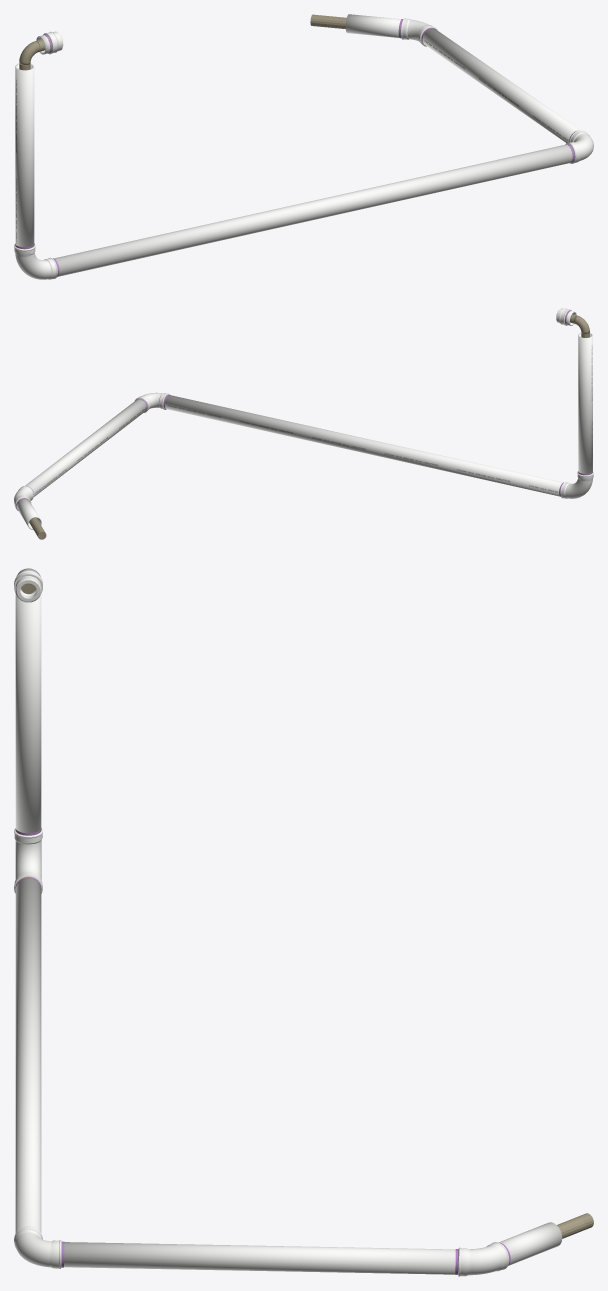
Rendered from slab_pipes_dwv__sewer__f63ea71a.glb.
The picture shows the model from 3 angles, top to bottom: view 1: azimuth 30°, elevation 25°; view 2: azimuth 150°, elevation 25°; view 3: azimuth 270°, elevation 25°; orthographic projection. The views are drawn at different scales.
Visible parts, largest first — view 1: pipe_dwv_kitchen, flow_waste_pipe_dwv_kitchen; view 2: pipe_dwv_kitchen, flow_waste_pipe_dwv_kitchen; view 3: pipe_dwv_kitchen.
Part boxes in pixels (x1=…): pipe_dwv_kitchen: x1=14, y1=14, x2=593, y2=279; flow_waste_pipe_dwv_kitchen: x1=19, y1=14, x2=346, y2=70; pipe_dwv_kitchen: x1=14, y1=311, x2=593, y2=529; flow_waste_pipe_dwv_kitchen: x1=29, y1=314, x2=589, y2=539; pipe_dwv_kitchen: x1=14, y1=568, x2=562, y2=1276.
Size of the model in its own units: 2.12 by 0.9147 by 1.37.
